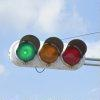traffic lights: (9, 34, 89, 73)
